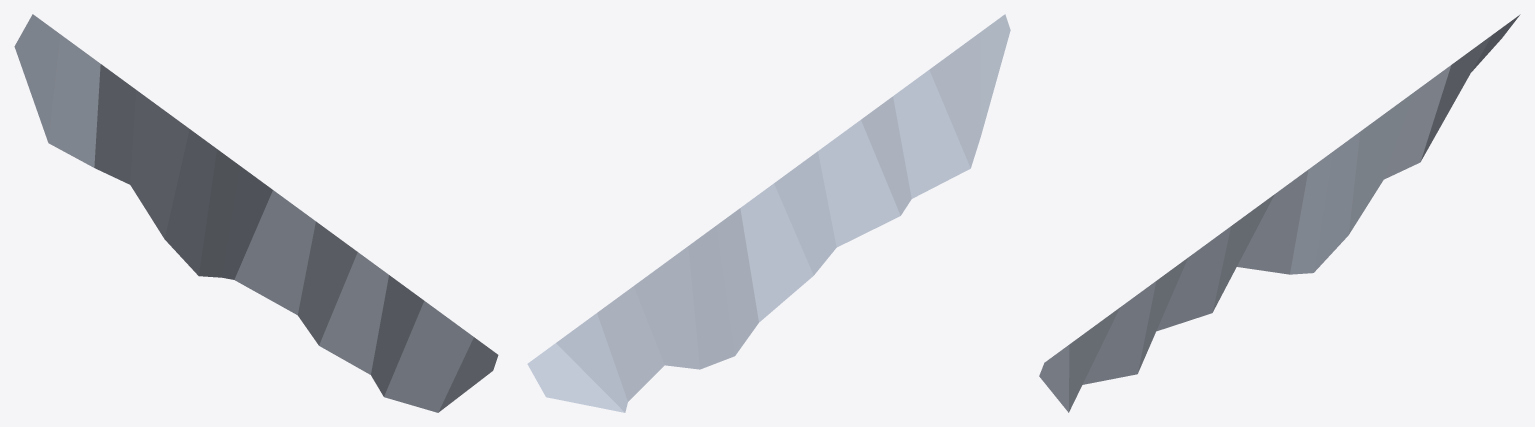
File: FlatMt.fbx
3 renders of one model, left to right at view 1: azimuth 30°, elevation 25°; view 2: azimuth 150°, elevation 25°; view 3: azimuth 330°, elevation 25°, orthographic. The views are drawn at different scales.
Parts seen in each view (by area): view 1: PlaineMt; view 2: PlaineMt; view 3: PlaineMt.
Boxes of the visible parts, <box> form: PlaineMt: <box>14,14,498,412</box>; PlaineMt: <box>527,14,1010,412</box>; PlaineMt: <box>1039,14,1520,412</box>.
Bounding box in the file's own units: 67.82 × 197 × 1351.
